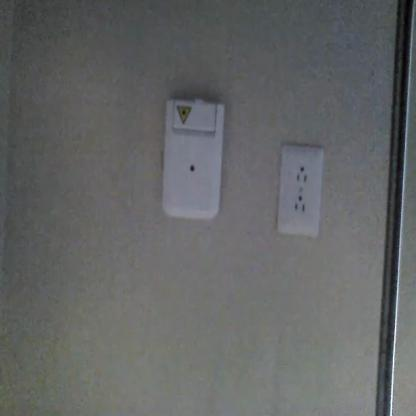OUTLET: (278, 146, 325, 234)
